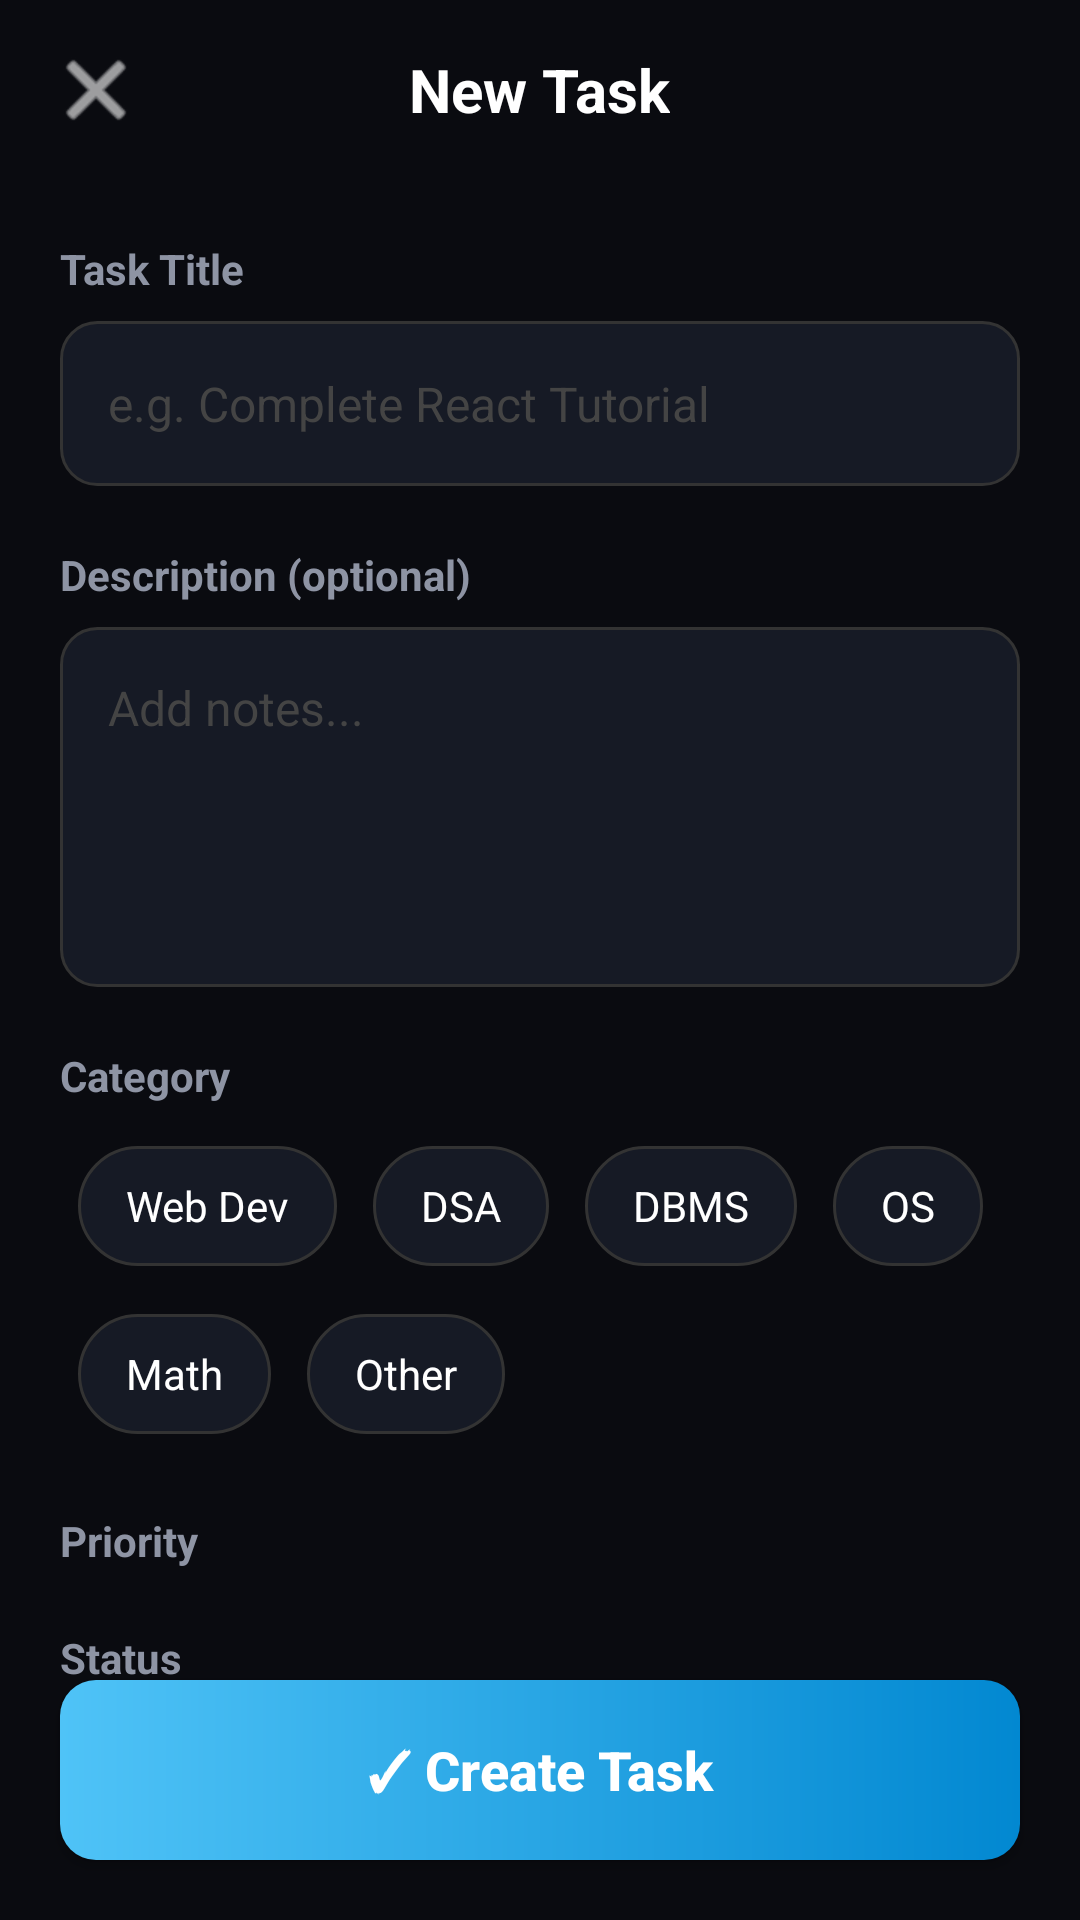

Icon bounding boxes for this 1080x1920 phone screenshot, format (x1, y1, x2, y2):
close clear cancel: (66, 60, 126, 120)
